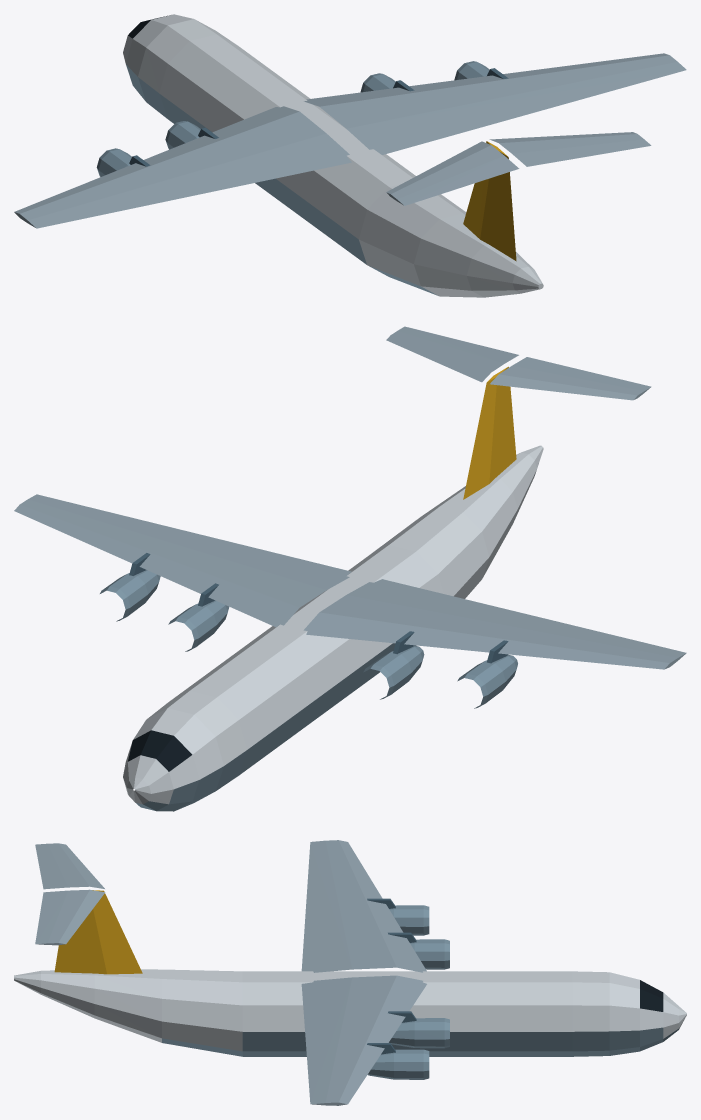
The picture shows the model from 3 angles, top to bottom: view 1: azimuth 30°, elevation 25°; view 2: azimuth 150°, elevation 25°; view 3: azimuth 270°, elevation 25°; orthographic projection. The views are drawn at different scales.
Visible parts, largest first — view 1: lod0; view 2: lod0; view 3: lod0.
Boxes of the visible parts, x1=… form: lod0: x1=14, y1=14, x2=686, y2=297; lod0: x1=14, y1=326, x2=686, y2=811; lod0: x1=14, y1=840, x2=686, y2=1105.
Size of what is drawn, in the model's own units: 0.9226 by 0.2674 by 1.
